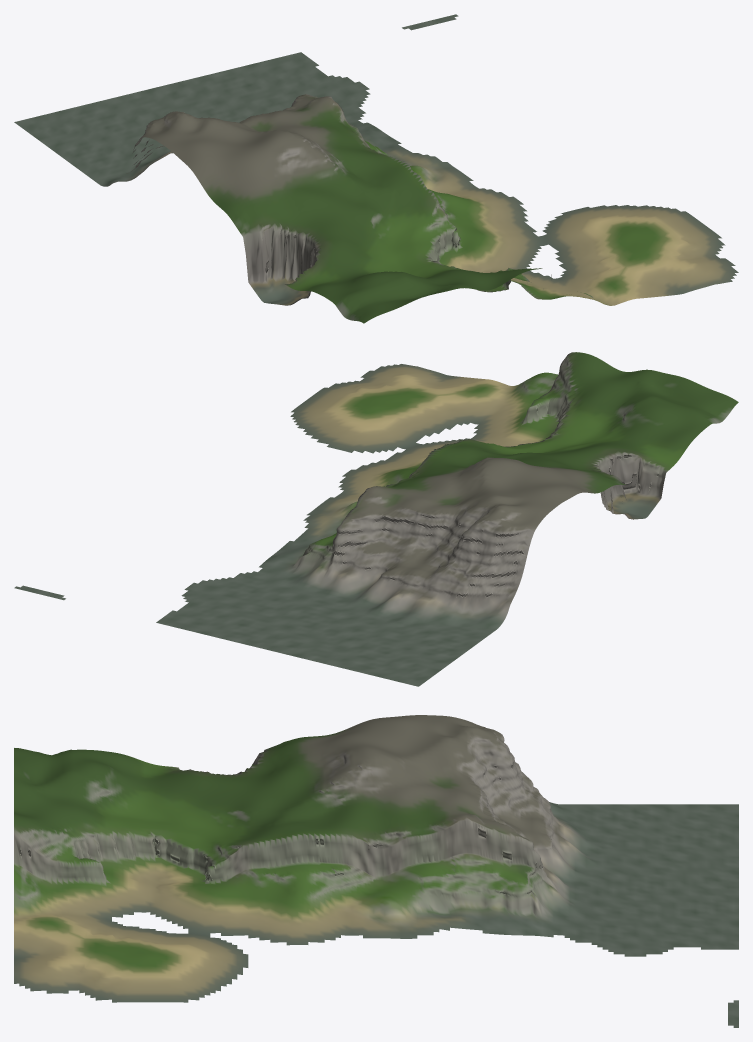
File: coast_tile_x1z0.glb
3 views of the same model, one above another, from view 1: azimuth 30°, elevation 25°; view 2: azimuth 150°, elevation 25°; view 3: azimuth 270°, elevation 25° (orthographic). The views are drawn at different scales.
Visible parts, largest first — view 1: coast_tile_x1z0; view 2: coast_tile_x1z0; view 3: coast_tile_x1z0.
Part boxes in pixels (x1,y1,x2,y2): coast_tile_x1z0: [14, 14, 738, 323]; coast_tile_x1z0: [14, 352, 738, 686]; coast_tile_x1z0: [14, 715, 738, 1027].
Bounding box in the file's own units: 582 × 119 × 798.
